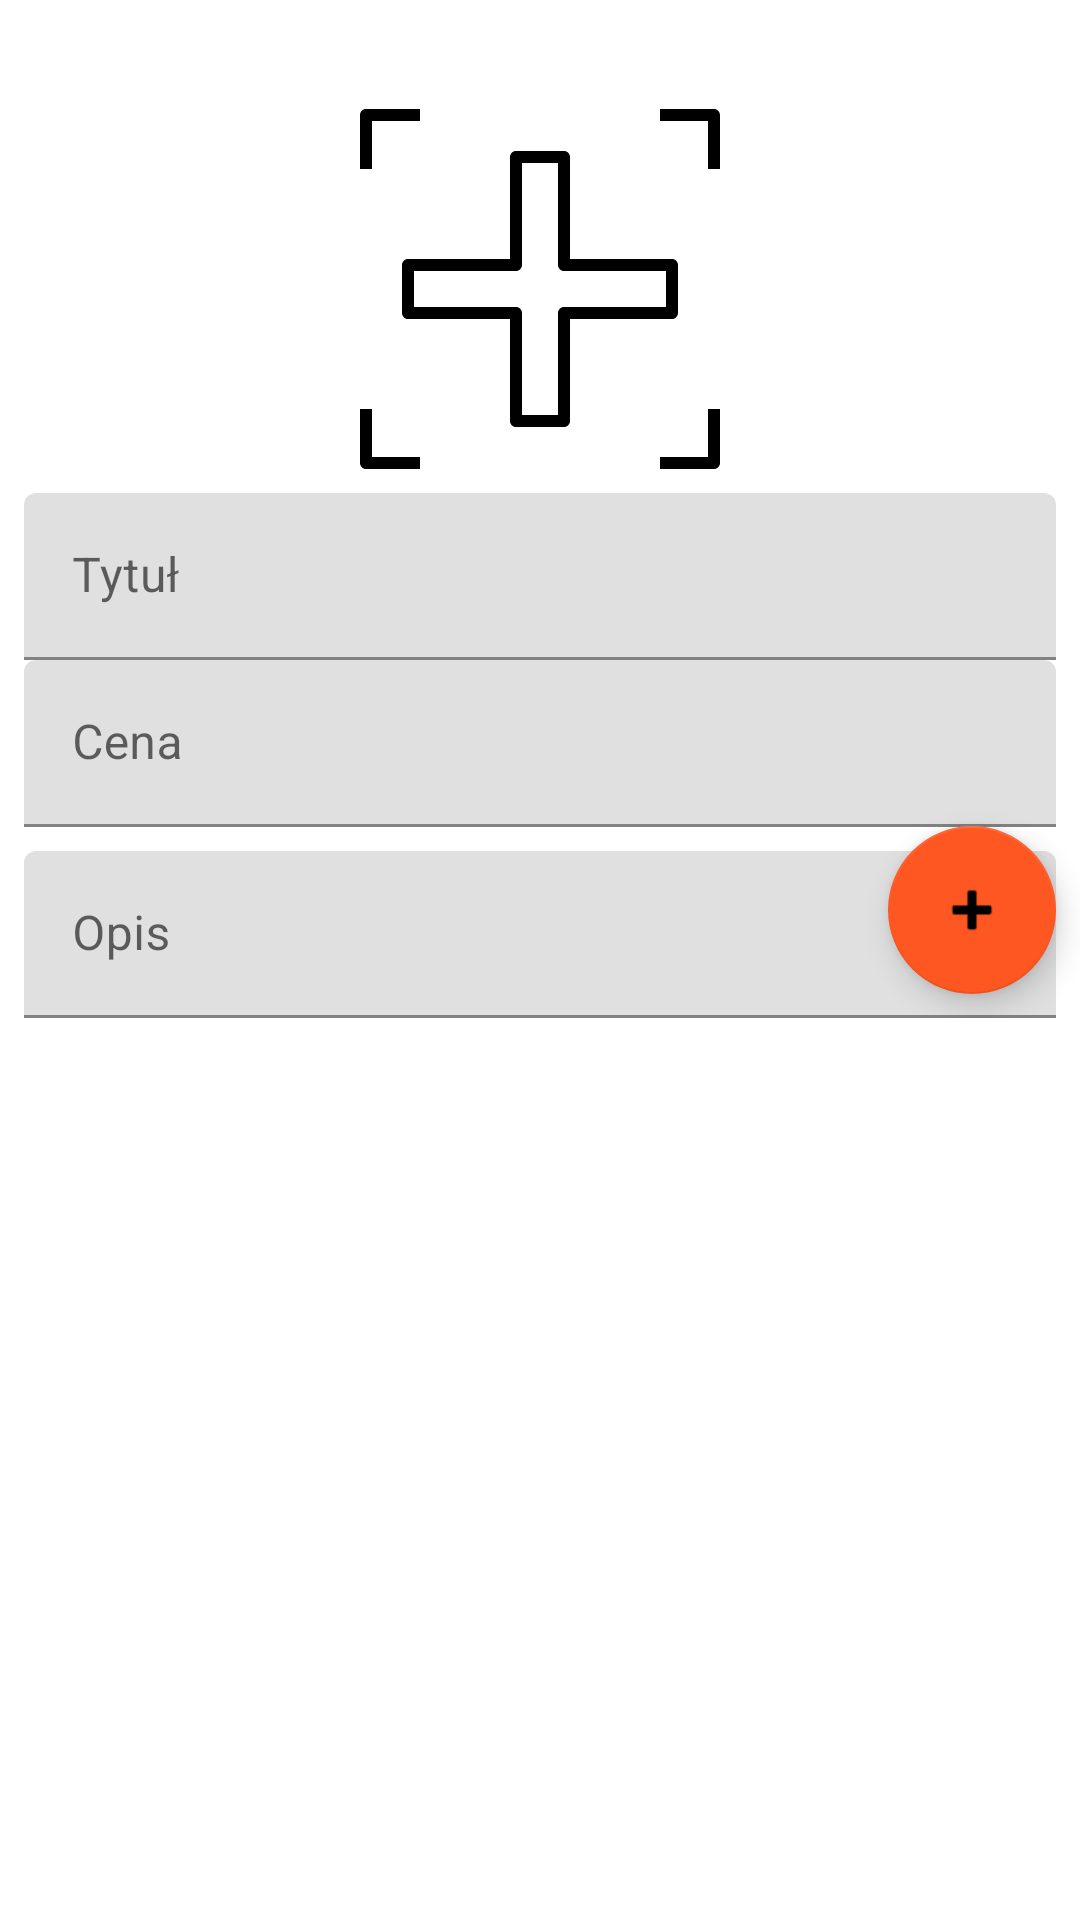

Screen size 1080px x 1920px. Icon name, then its box in pixels as (x1, y1, x2, y2):
add: (888, 826, 1056, 994)
